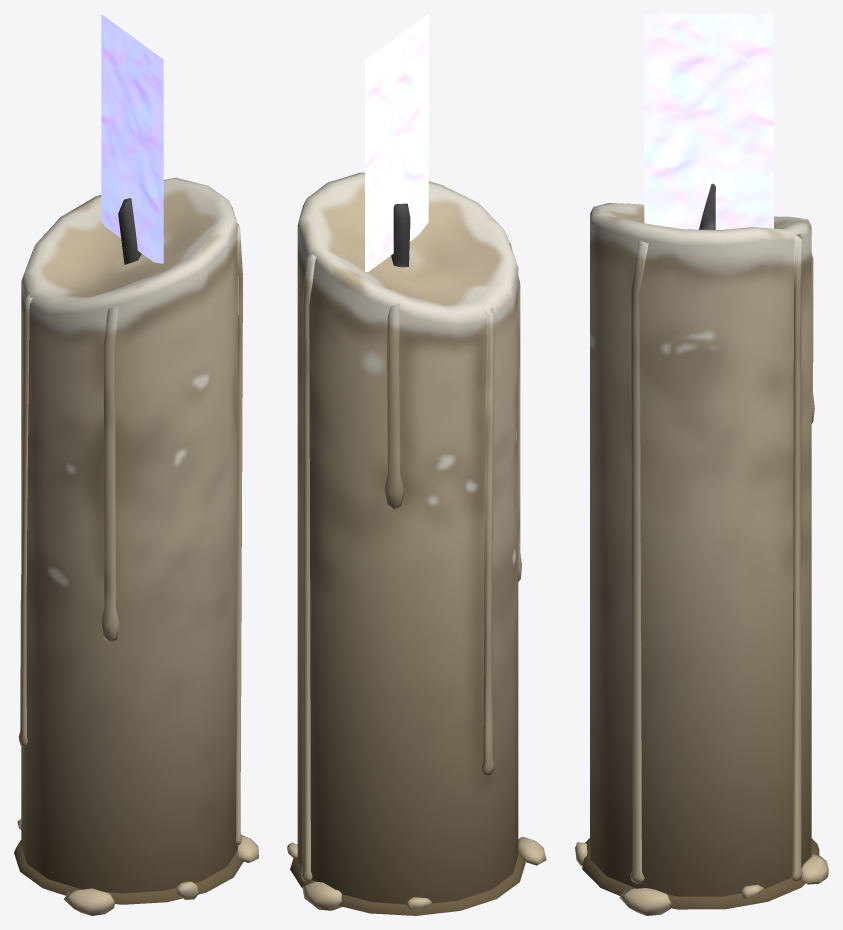
Rendered from SM_Candle_03.fbx.
The picture shows the model from 3 angles, left to right: view 1: azimuth 30°, elevation 25°; view 2: azimuth 150°, elevation 25°; view 3: azimuth 270°, elevation 25°; orthographic projection. The views are drawn at different scales.
Parts seen in each view (by area): view 1: SM_Candle_03_LOD0; view 2: SM_Candle_03_LOD0; view 3: SM_Candle_03_LOD0.
Boxes of the visible parts, <box> form: SM_Candle_03_LOD0: <box>14,14,258,915</box>; SM_Candle_03_LOD0: <box>287,14,546,915</box>; SM_Candle_03_LOD0: <box>575,14,828,915</box>.
Size of the model in its own units: 7.16 by 7.51 by 27.91.
Materials: 2 (1 with a texture image).
